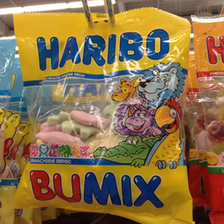candy: (14, 9, 193, 211)
